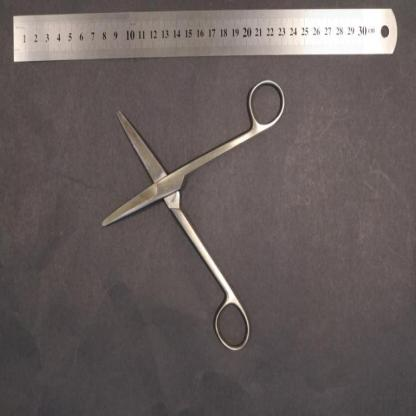Curved Mayo Scissors: (102, 78, 285, 355)
